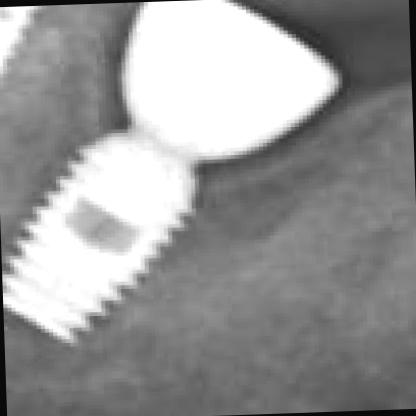Bicon: (1, 130, 218, 371)
